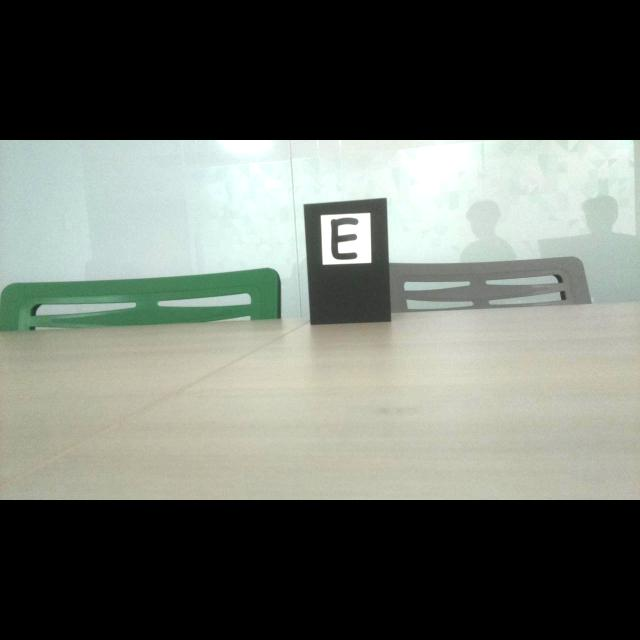E: (332, 217, 358, 259)
